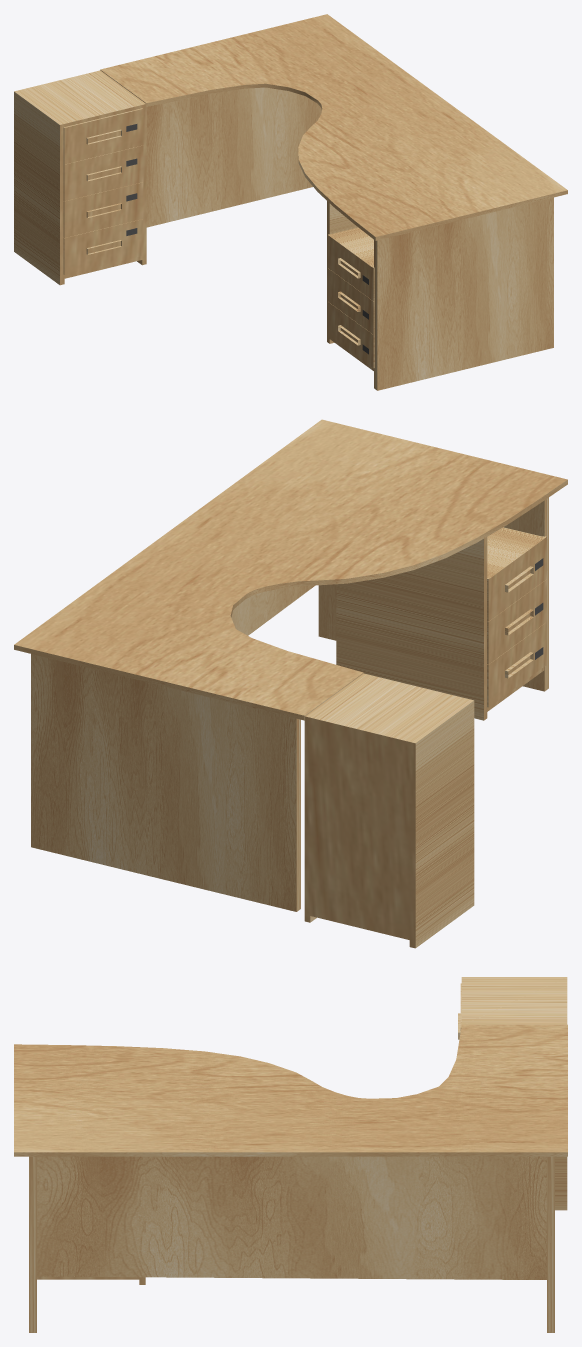
The model's file is Table1.fbx.
3 views of the same model, one above another, from view 1: azimuth 30°, elevation 25°; view 2: azimuth 150°, elevation 25°; view 3: azimuth 270°, elevation 25° (orthographic). The views are drawn at different scales.
Visible parts, largest first — view 1: Стол, Box030, Box031, стенка 3, Box073; view 2: Стол, стенка 3, Box031, Box073, Box030, стенка2; view 3: стенка2, Стол, Box031, стенка 3, Box030.
Part boxes in pixels (box(x1,y1,x2,y2)): Стол: box(100, 14, 567, 240); Box030: box(374, 197, 553, 390); Box031: box(14, 70, 146, 285); стенка 3: box(146, 87, 321, 227); Box073: box(327, 201, 374, 370); Стол: box(14, 419, 567, 720); стенка 3: box(31, 654, 300, 911); Box031: box(304, 673, 474, 948); Box073: box(336, 527, 546, 720); Box030: box(318, 497, 548, 691); стенка2: box(231, 585, 315, 635); стенка2: box(37, 1156, 546, 1279); Стол: box(14, 1024, 567, 1156); Box031: box(458, 977, 567, 1210); стенка 3: box(547, 1156, 554, 1332); Box030: box(29, 1156, 36, 1332).
Bounding box in the file's own units: 1371 × 673 × 1822.
2 materials, 2 textured.
